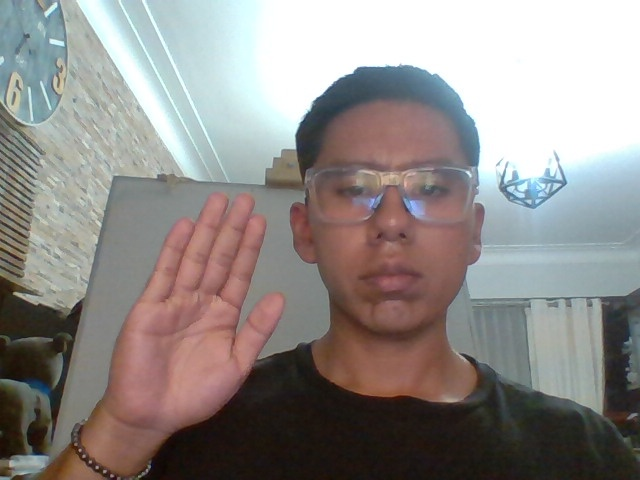Hello: (108, 190, 288, 429)
